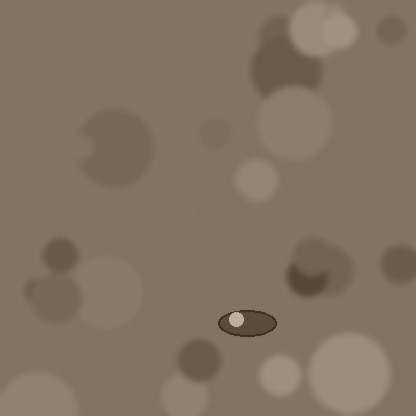gota: (218, 311, 276, 339)
